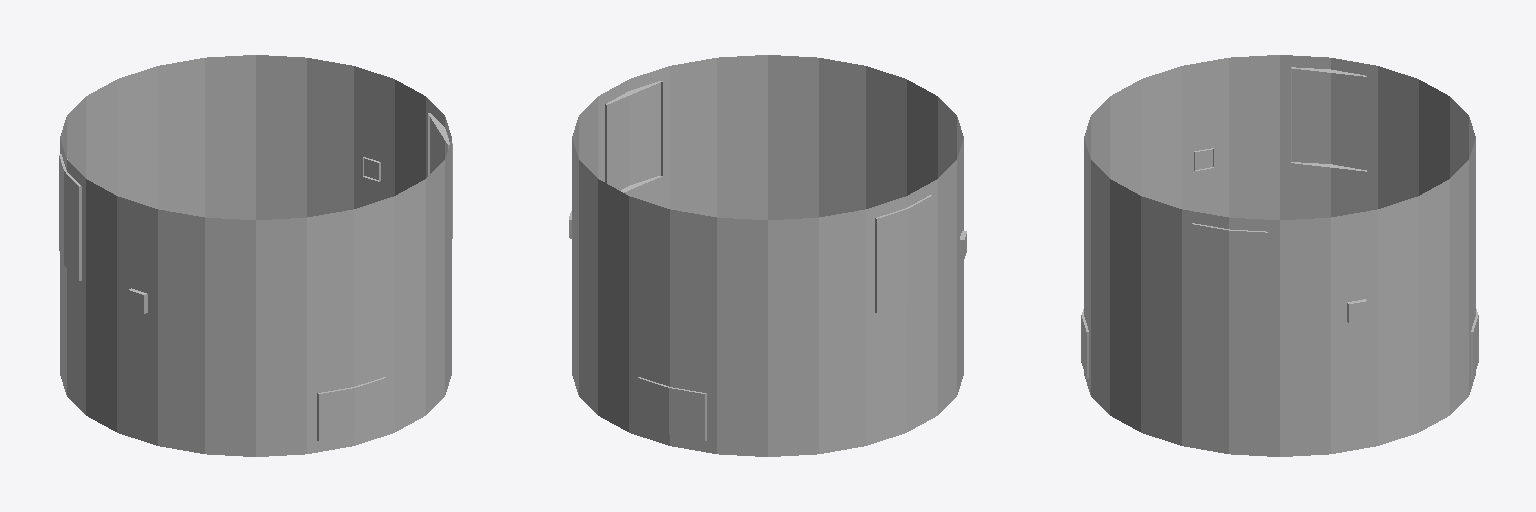
The model's file is short 1p5 crew naked plain.obj.
3 views of the same model, side by side, from view 1: azimuth 30°, elevation 25°; view 2: azimuth 150°, elevation 25°; view 3: azimuth 270°, elevation 25° (orthographic).
Visible parts, largest first — view 1: 1; view 2: 1; view 3: 1.
Part boxes in pixels (left/top/right/bottom): 1: left=59, top=55, right=452, bottom=456; 1: left=569, top=55, right=966, bottom=456; 1: left=1081, top=55, right=1478, bottom=456.
Bounding box in the file's own units: 1.88 × 1.25 × 1.9.